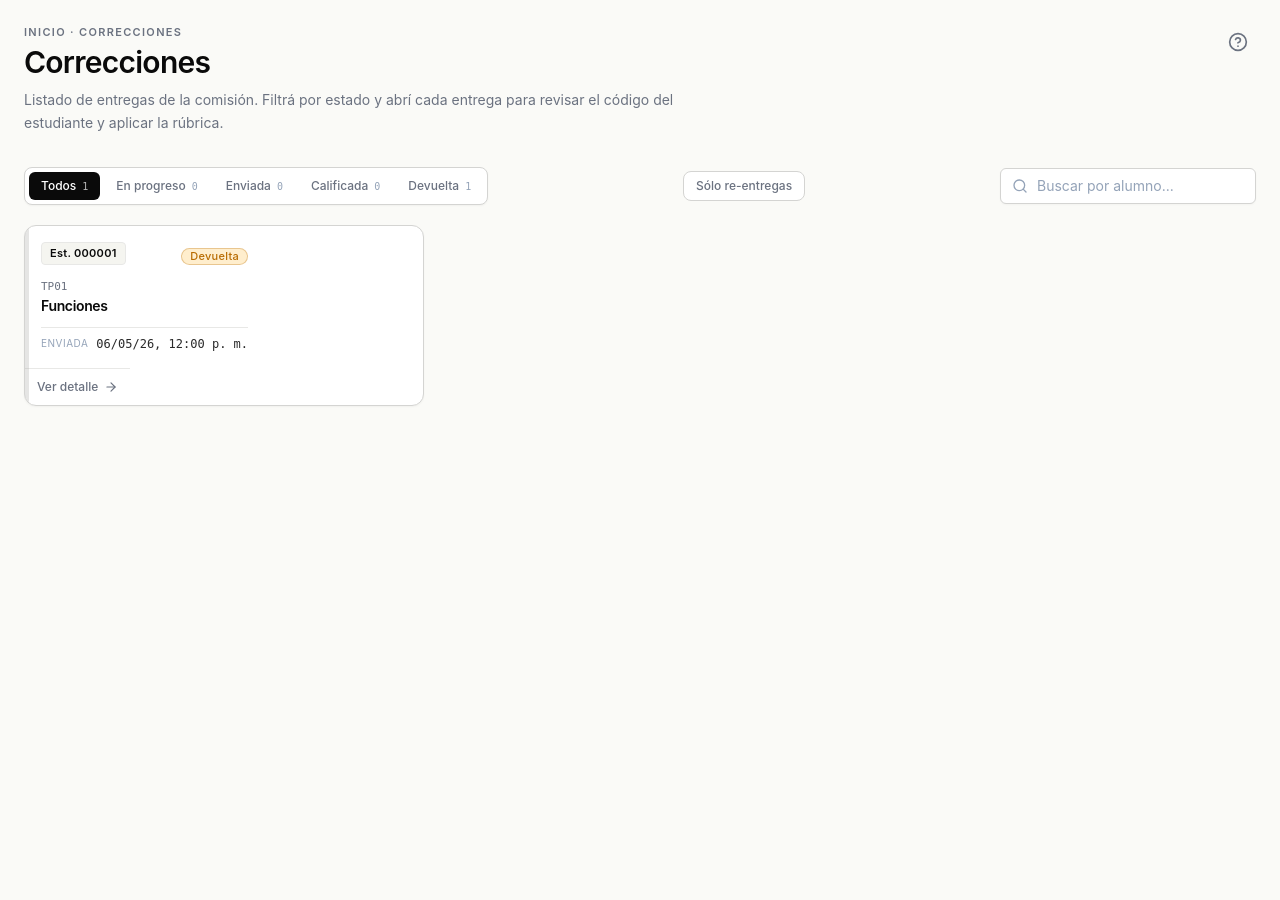
it: Pedir correccion › en returned muestra que ejercicios se pidieron corregir
The image size is (1280, 900).
Click the button with test id "entrega-drill-btn" at (83, 254), box [24,224,424,406]
(page scrolled)
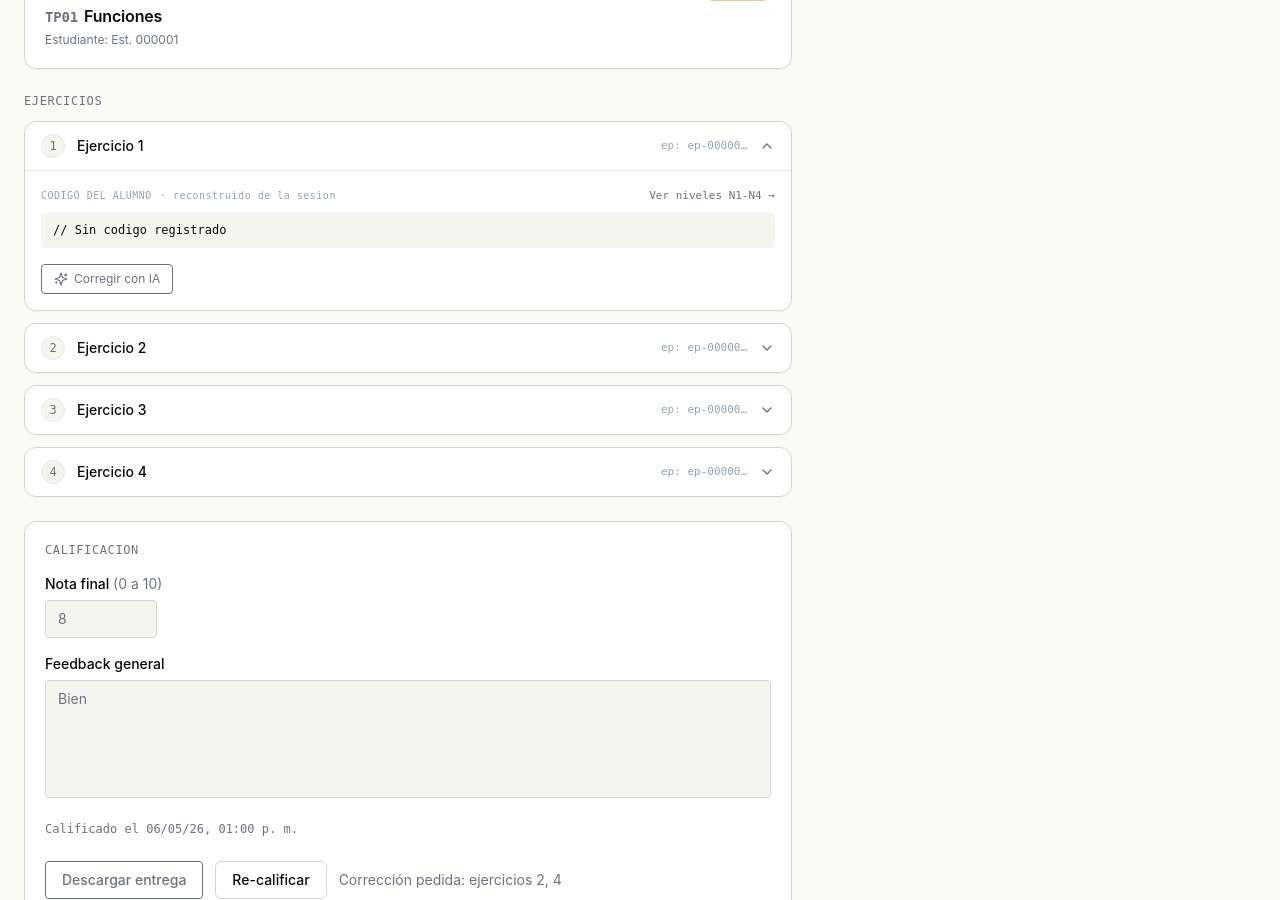
Expected: the text with test id "pedidos-correccion" shows "2, 4", [469,871,562,888]
